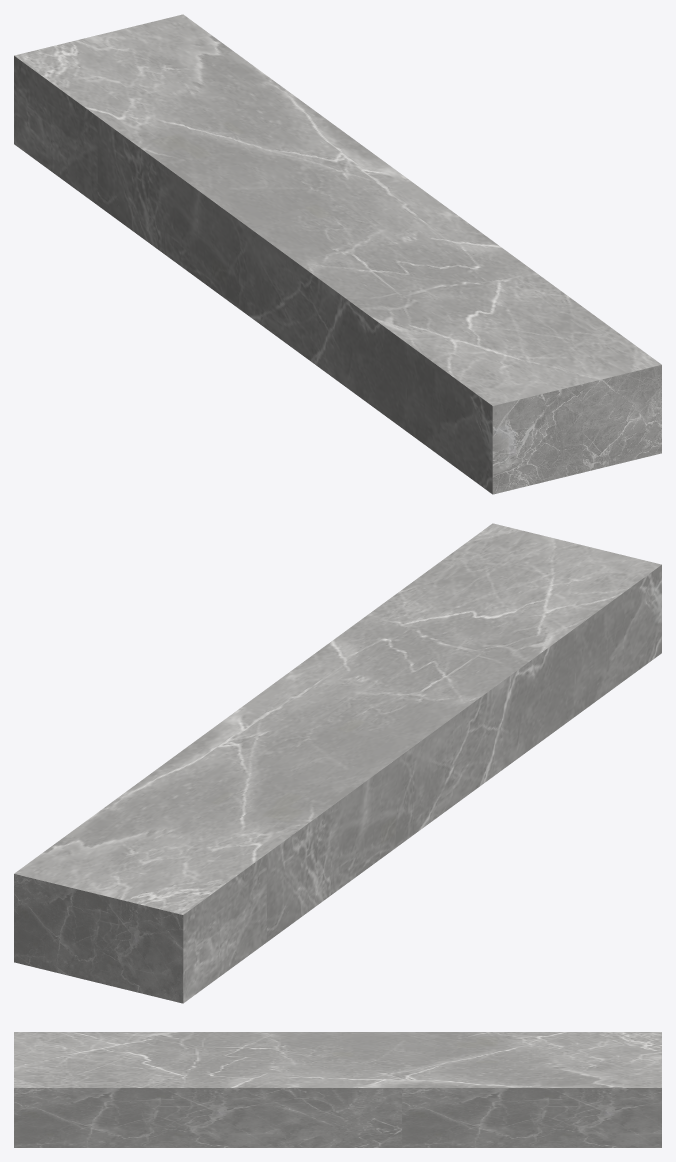
File: marbleStone.fbx
3 renders of one model, top to bottom at view 1: azimuth 30°, elevation 25°; view 2: azimuth 150°, elevation 25°; view 3: azimuth 270°, elevation 25°, orthographic. The views are drawn at different scales.
Visible parts, largest first — view 1: Box012; view 2: Box012; view 3: Box012.
Boxes of the visible parts, box(x1,y1,x2,y2) form: Box012: box(14, 14, 661, 494); Box012: box(14, 523, 661, 1003); Box012: box(14, 1032, 661, 1147).
Bounding box in the file's own units: 5.6 × 2.8 × 27.46.
Materials: 1 (1 with a texture image).
